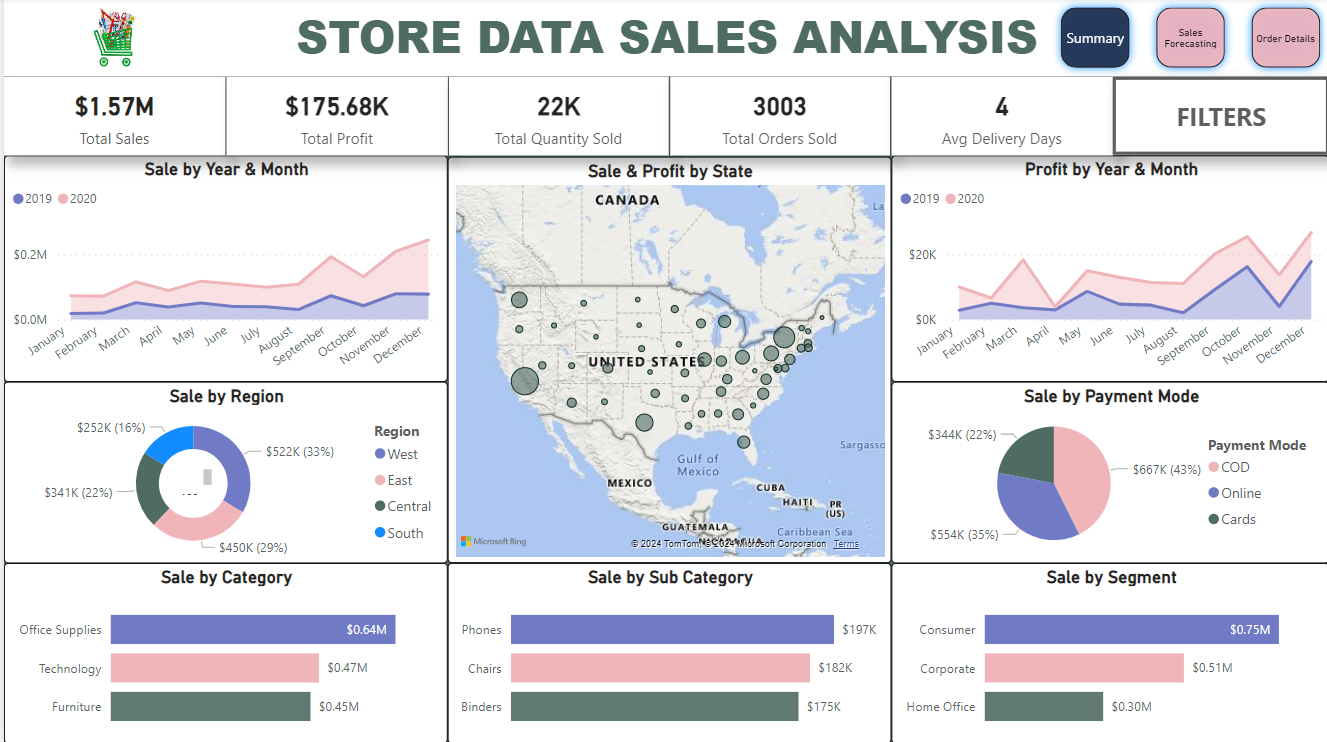

This screenshot's page, from the dashboard's own definition file:
{"tool":"powerbi","page":{"name":"Summary","canvas":[1280,720],"ordinal":0},"visuals":[{"type":"textbox","box":[0,1.2,1279.6,74.8],"z":0,"group":"g1"},{"type":"clusteredBarChart","fields":{"Category":["SalesDataset.Category"],"Y":["Sum(SalesDataset.Sales)"]},"box":[0,545.1,428,174.9],"z":0},{"type":"image","box":[0,0,213.5,76],"z":1000,"group":"g1"},{"type":"clusteredBarChart","fields":{"Y":["Sum(SalesDataset.Sales)"],"Category":["SalesDataset.Sub_Category"]},"box":[428.1,545.1,428.1,174.9],"z":1000},{"type":"pageNavigator","box":[1011.9,1.2,267.7,74.8],"z":2000,"group":"g1"},{"type":"clusteredBarChart","fields":{"Y":["Sum(SalesDataset.Sales)"],"Category":["SalesDataset.Segment"]},"box":[856.3,545.1,423.3,174.9],"z":2000},{"type":"donutChart","fields":{"Y":["Sum(SalesDataset.Sales)"],"Category":["SalesDataset.Region"]},"box":[0,370.3,428.1,174.9],"z":3000},{"type":"pieChart","fields":{"Y":["Sum(SalesDataset.Sales)"],"Category":["SalesDataset.Payment_Mode"]},"box":[856.3,370.3,423.3,174.9],"z":4000},{"type":"stackedAreaChart","title":"Sale by Year & Month","fields":{"Y":["Sum(SalesDataset.Sales)"],"Category":["SalesDataset.Order_Date.Variation.Date Hierarchy.Month","SalesDataset.Order_Date.Variation.Date Hierarchy.Day"],"Series":["SalesDataset.Order_Date.Variation.Date Hierarchy.Year"]},"box":[0,152,428.1,218.3],"z":5000},{"type":"stackedAreaChart","title":"Profit by Year & Month","fields":{"Category":["SalesDataset.Order_Date.Variation.Date Hierarchy.Month","SalesDataset.Order_Date.Variation.Date Hierarchy.Day"],"Series":["SalesDataset.Order_Date.Variation.Date Hierarchy.Year"],"Y":["Sum(SalesDataset.Profit)"]},"box":[856.3,152,423.3,218.3],"z":6000},{"type":"map","title":"Sale & Profit by State","fields":{"Category":["SalesDataset.State"],"Size":["Sum(SalesDataset.Sales)"]},"box":[428.1,153.2,428.1,392],"z":7000},{"type":"textbox","box":[160.4,449.8,44.6,35],"z":8000},{"type":"card","fields":{"Values":["Sum(SalesDataset.Sales)"]},"box":[0,76,213.5,76],"z":9000},{"type":"card","fields":{"Values":["Sum(SalesDataset.Profit)"]},"box":[214.7,76,213.5,76],"z":10000},{"type":"card","fields":{"Values":["Sum(SalesDataset.Quantity)"]},"box":[429.3,76,212,76],"z":11000},{"type":"card","fields":{"Values":["Count(SalesDataset.Order_ID)"]},"box":[642.8,76,212,76],"z":12000},{"type":"card","fields":{"Values":["Avg(SalesDataset.AvgDelivery)"]},"box":[856.3,76,213.5,76],"z":13000},{"type":"group","id":"g1","title":"Group 1","box":[0,0,1279.6,76],"z":14000},{"type":"actionButton","title":"FILTERS","box":[1069.4,76.6,209.6,75.2],"z":16000}]}

Visuals, with their boxes in screenshot pixels (x1, y1, x2, y2), scaled from the page's 1280x720 canvas onto the 1327x742 screenshot:
textbox: 0,1,1326,78
clusteredBarChart - SalesDataset.Category x Sum(SalesDataset.Sales): 0,562,444,741
image: 0,0,221,78
clusteredBarChart - Sum(SalesDataset.Sales) x SalesDataset.Sub_Category: 444,562,888,741
pageNavigator: 1049,1,1326,78
clusteredBarChart - Sum(SalesDataset.Sales) x SalesDataset.Segment: 888,562,1326,741
donutChart - Sum(SalesDataset.Sales) x SalesDataset.Region: 0,382,444,562
pieChart - Sum(SalesDataset.Sales) x SalesDataset.Payment_Mode: 888,382,1326,562
"Sale by Year & Month" stackedAreaChart: 0,157,444,382
"Profit by Year & Month" stackedAreaChart: 888,157,1326,382
"Sale & Profit by State" map: 444,158,888,562
textbox: 166,464,213,500
card - Sum(SalesDataset.Sales): 0,78,221,157
card - Sum(SalesDataset.Profit): 223,78,444,157
card - Sum(SalesDataset.Quantity): 445,78,665,157
card - Count(SalesDataset.Order_ID): 666,78,886,157
card - Avg(SalesDataset.AvgDelivery): 888,78,1109,157
"Group 1" group: 0,0,1326,78
"FILTERS" actionButton: 1109,79,1326,156
